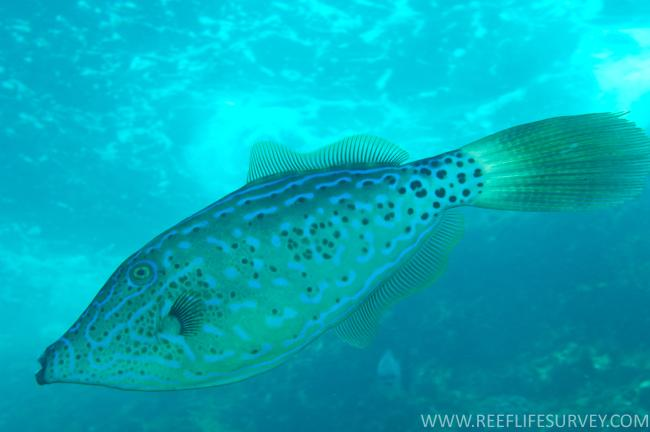fish: (38, 114, 647, 392)
